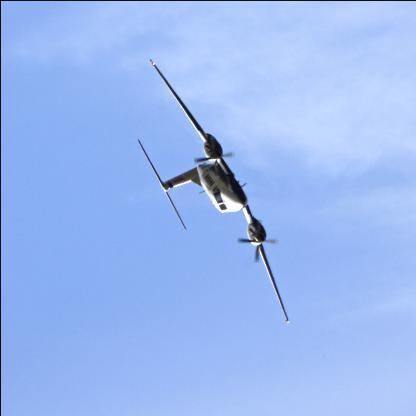aircraft: (131, 52, 295, 329)
